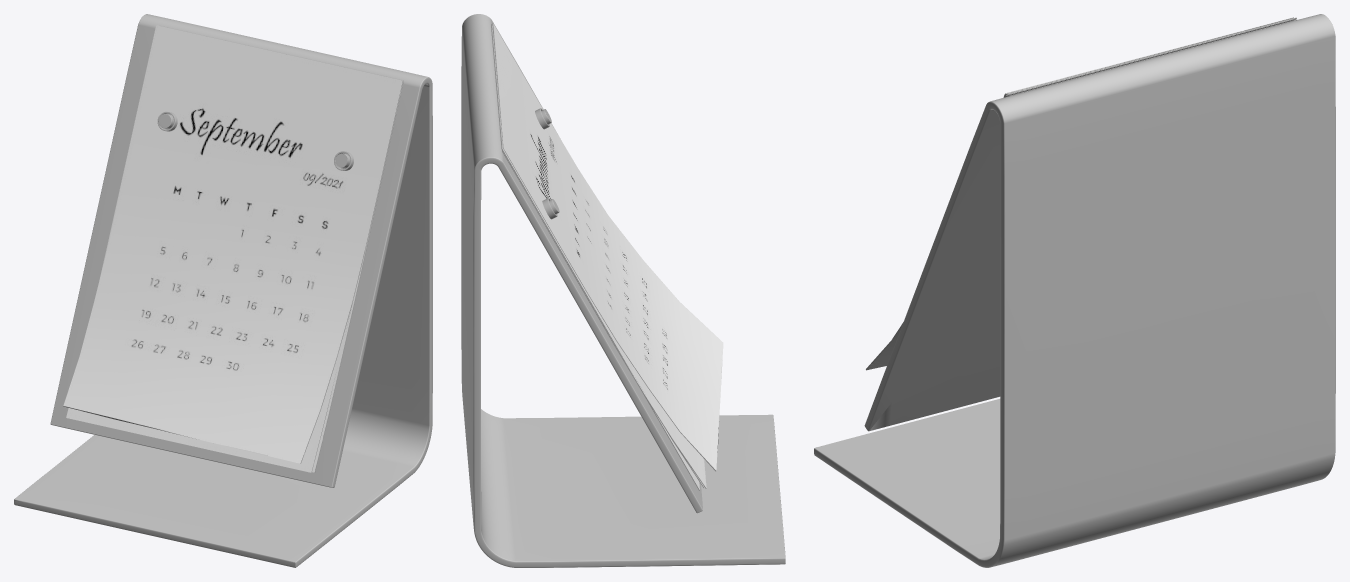
Rendered from Almanac.fbx.
The picture shows the model from 3 angles, left to right: view 1: azimuth 30°, elevation 25°; view 2: azimuth 150°, elevation 25°; view 3: azimuth 270°, elevation 25°; orthographic projection. The views are drawn at different scales.
Parts seen in each view (by area): view 1: decorative se01.053, decorative se01.050, decorative se01.048, decorative se01.049, decorative se01.051; view 2: decorative se01.050, decorative se01.053, decorative se01.048, decorative se01.051; view 3: decorative se01.050, decorative se01.053.
Part boxes in pixels (x1,y1,x2,y2): decorative se01.053: (63, 25, 402, 463); decorative se01.050: (14, 14, 432, 567); decorative se01.048: (66, 26, 337, 472); decorative se01.049: (312, 80, 403, 472); decorative se01.051: (103, 25, 401, 472); decorative se01.050: (461, 14, 785, 567); decorative se01.053: (492, 23, 723, 471); decorative se01.048: (502, 150, 706, 488); decorative se01.051: (491, 24, 699, 490); decorative se01.050: (814, 14, 1335, 567); decorative se01.053: (866, 17, 1293, 370).
Size of the model in its own units: 8983 by 9189 by 9160.
